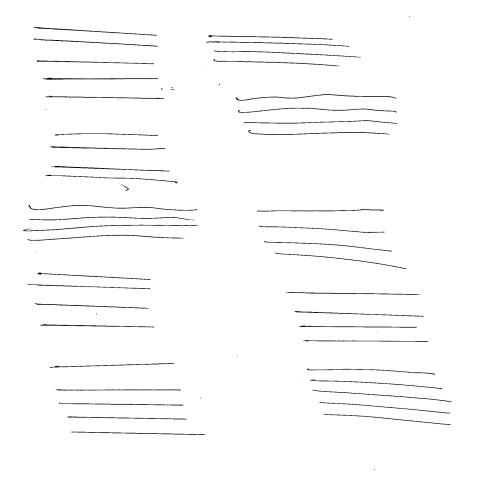Paragraph: (31, 27, 165, 101), (257, 209, 407, 271), (307, 369, 454, 426), (286, 293, 430, 343), (28, 273, 156, 329), (57, 389, 206, 437), (22, 205, 199, 243), (236, 95, 399, 136), (206, 36, 362, 67), (45, 166, 179, 185), (50, 134, 167, 151)
